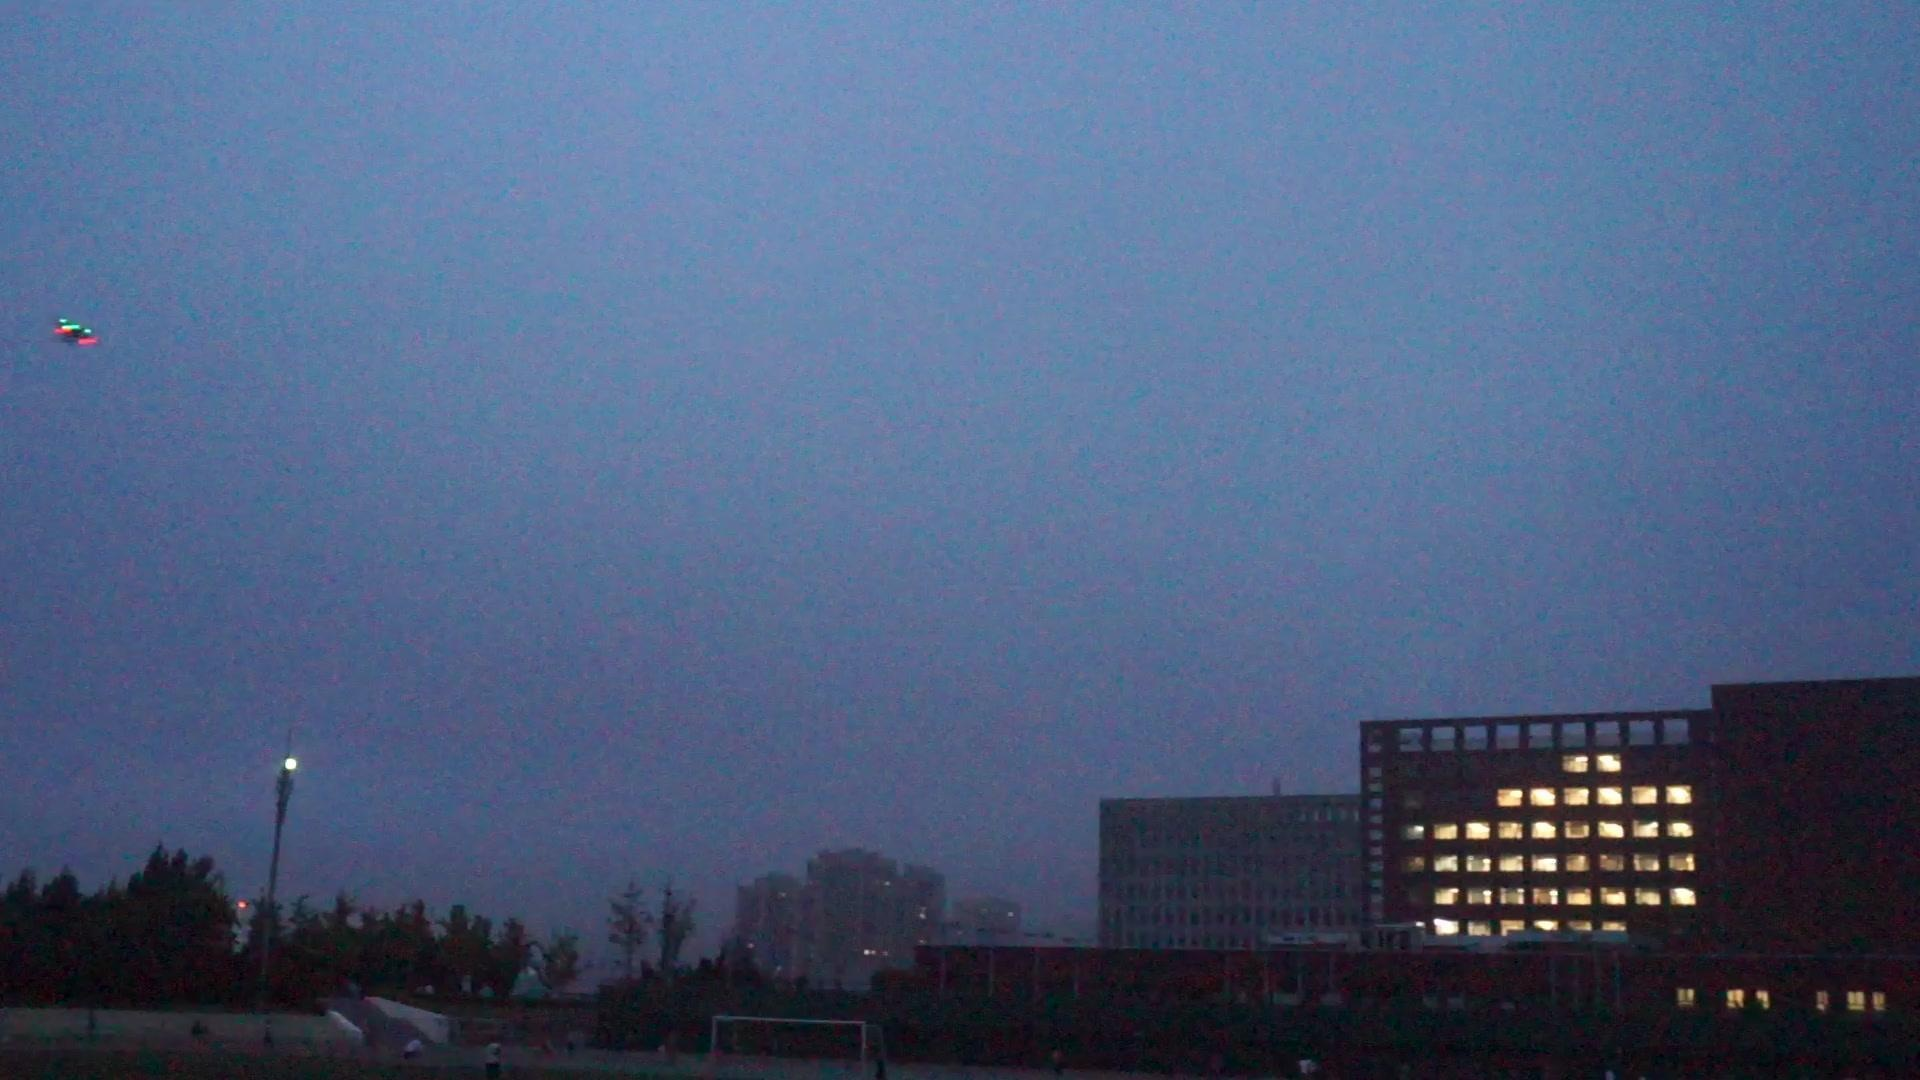UAV: (53, 318, 100, 345)
